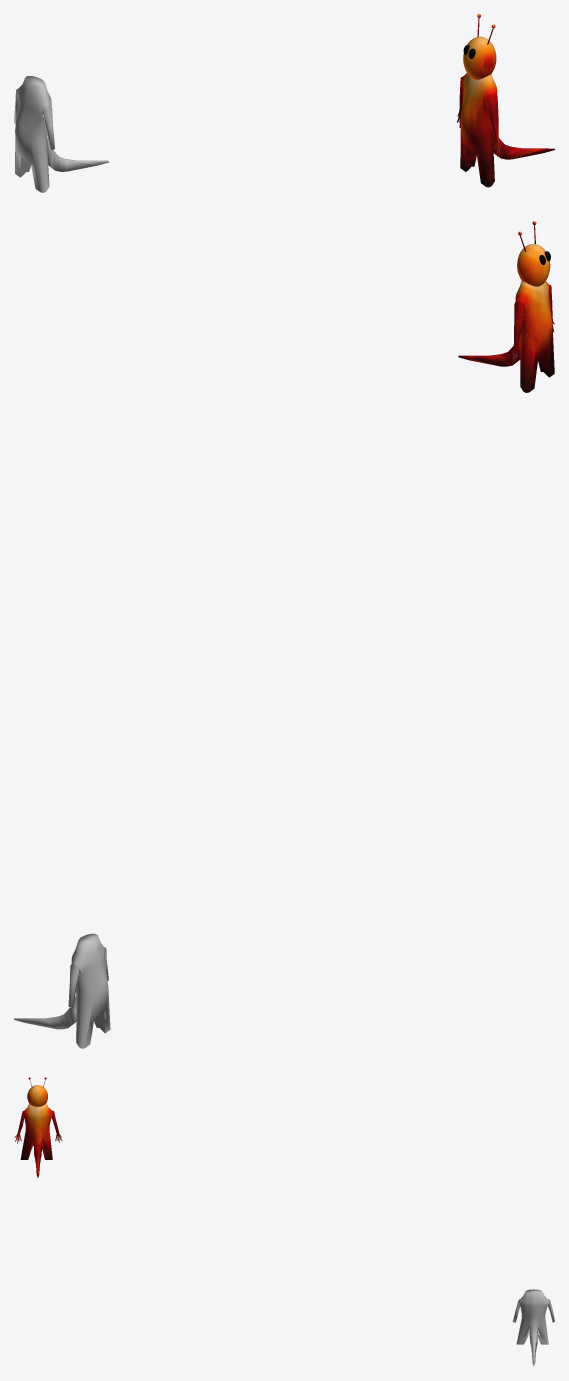
File: Character.fbx
3 views of the same model, one above another, from view 1: azimuth 30°, elevation 25°; view 2: azimuth 150°, elevation 25°; view 3: azimuth 270°, elevation 25° (orthographic). The views are drawn at different scales.
Parts seen in each view (by area): view 1: pCylinder33, pCylinder32, pSphere1; view 2: pCylinder33, pCylinder32, pSphere1; view 3: pCylinder32, pCylinder33, pSphere1.
Part boxes in pixels (box(x1,y1,x2,y2)): pCylinder33: box(14, 76, 109, 192); pCylinder32: box(457, 73, 554, 187); pSphere1: box(463, 18, 496, 79); pCylinder33: box(14, 933, 110, 1048); pCylinder32: box(458, 281, 554, 392); pSphere1: box(517, 225, 550, 286); pCylinder32: box(14, 1103, 62, 1177); pCylinder33: box(512, 1289, 554, 1366); pSphere1: box(27, 1079, 47, 1106).
Bounding box in the file's own units: 4.13 × 20.68 × 37.5.
